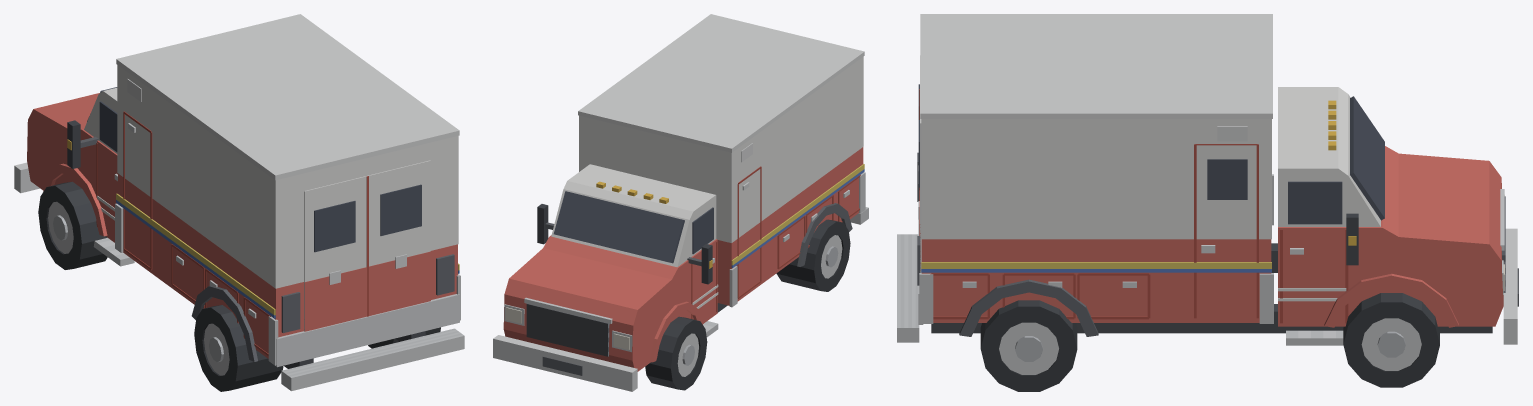
The model's file is medic-v1.glb.
3 renders of one model, left to right at view 1: azimuth 30°, elevation 25°; view 2: azimuth 150°, elevation 25°; view 3: azimuth 270°, elevation 25°, orthographic. The views are drawn at different scales.
Parts seen in each view (by area): view 1: Body, Axle_Rear, Axle_Front; view 2: Body, Axle_Front, Axle_Rear; view 3: Body, Axle_Front, Axle_Rear.
Part boxes in pixels (x1,y1,x2,y2): Body: (14,14,464,391); Axle_Rear: (194,305,440,391); Axle_Front: (38,181,107,269); Body: (493,14,868,391); Axle_Front: (645,316,707,390); Axle_Rear: (776,219,850,291); Body: (897,14,1518,345); Axle_Front: (1343,293,1439,387); Axle_Rear: (980,300,1077,391).
Size of the model in its own units: 2.62 by 2.99 by 6.17.
